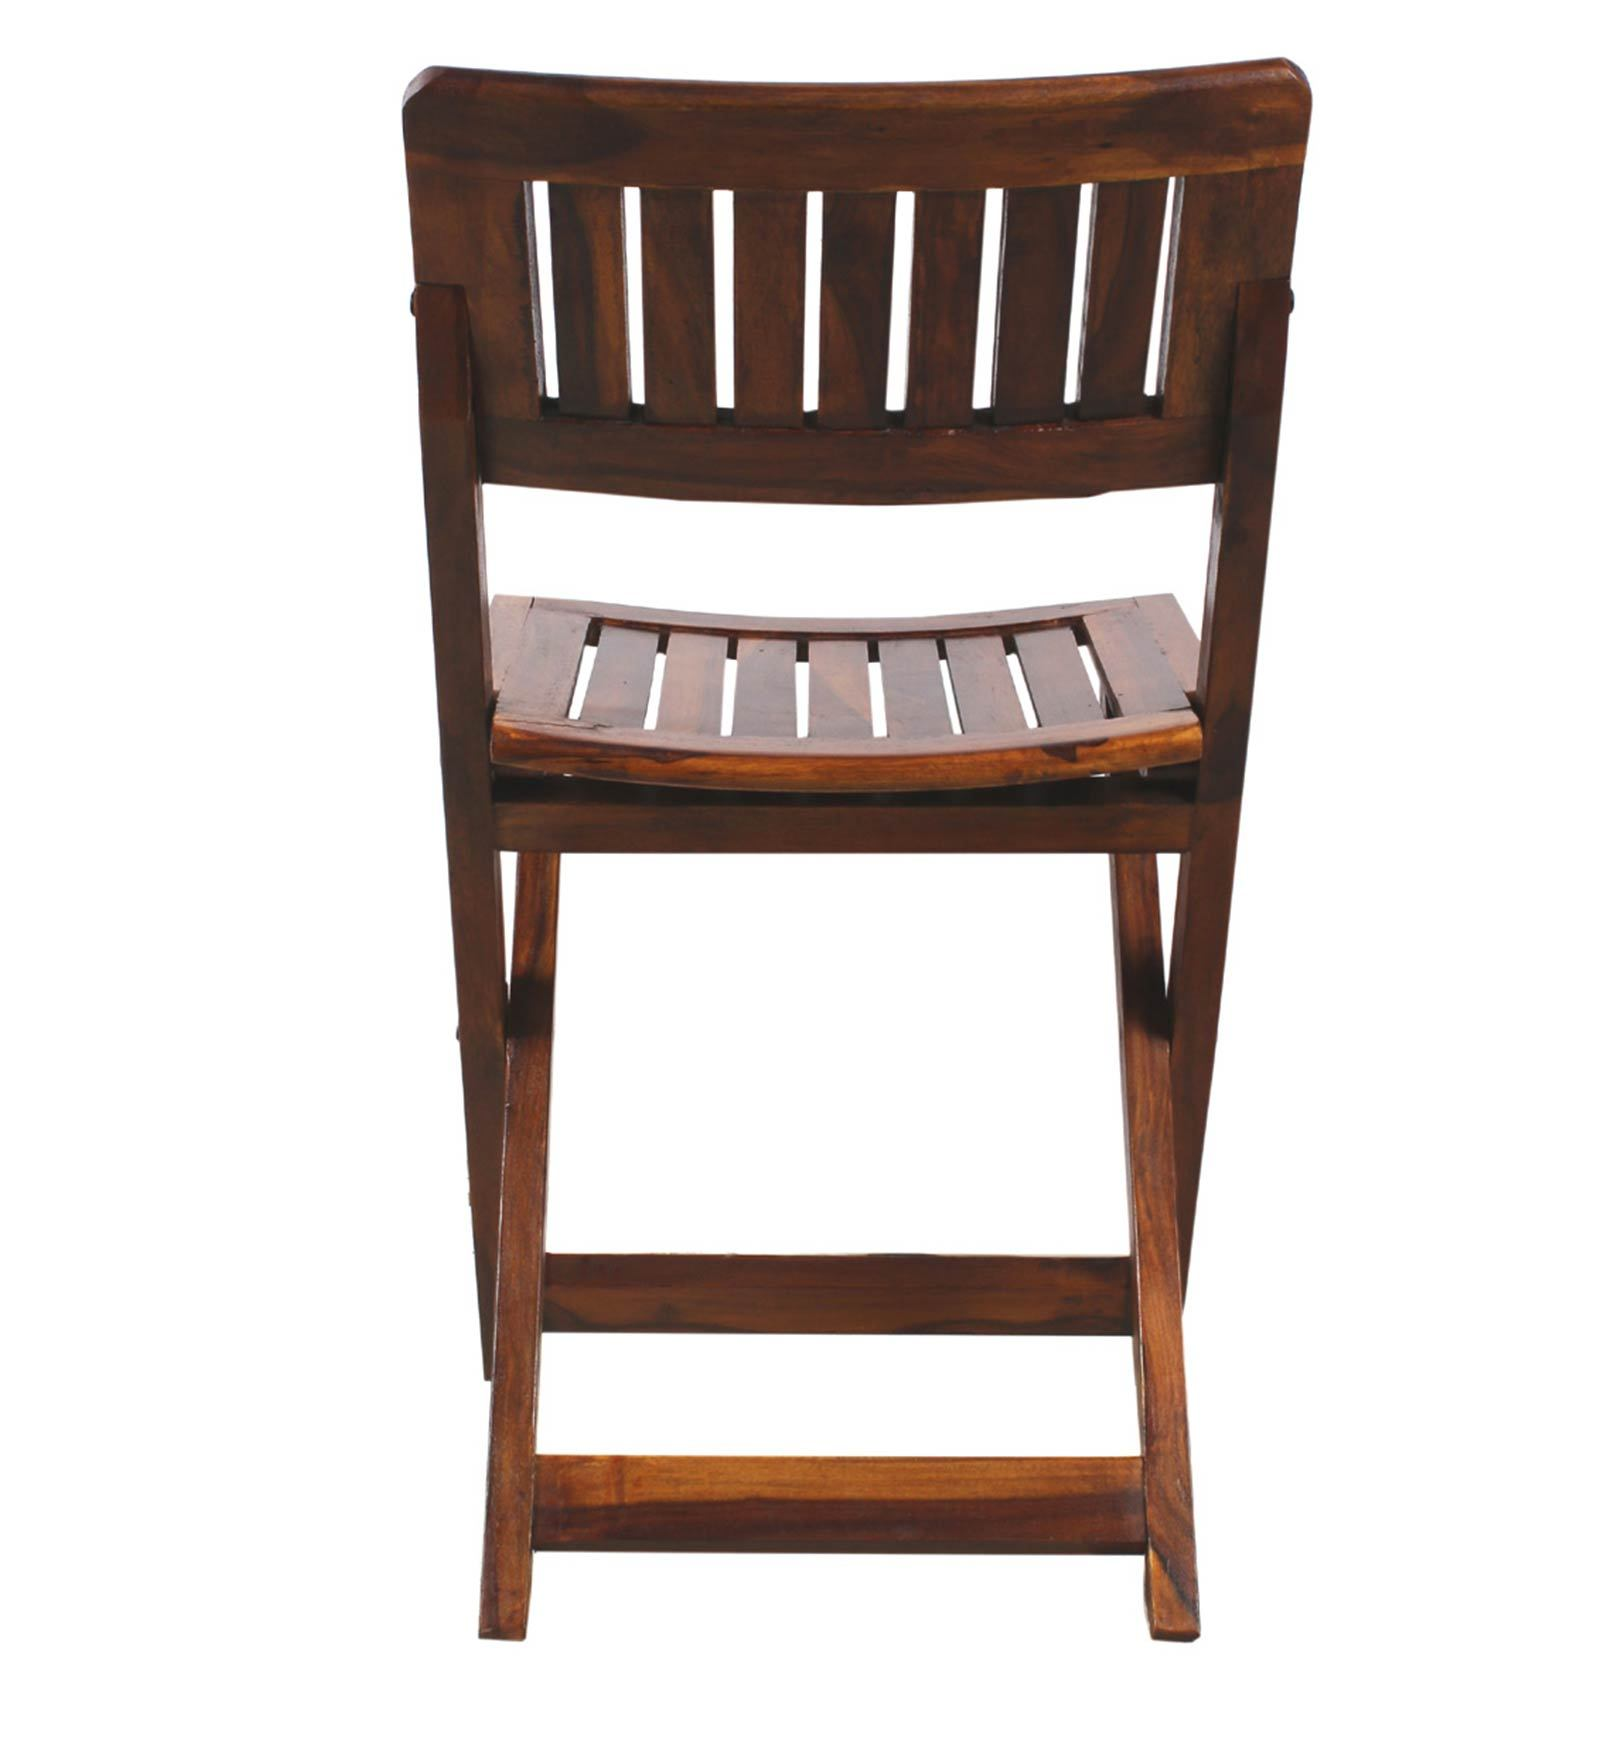Sheesham Wood Folding Chair in Walnut Finish by VarEesha: (291, 8, 1267, 1656)
